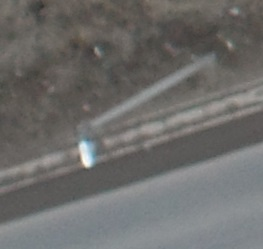opora: (75, 50, 216, 169)
